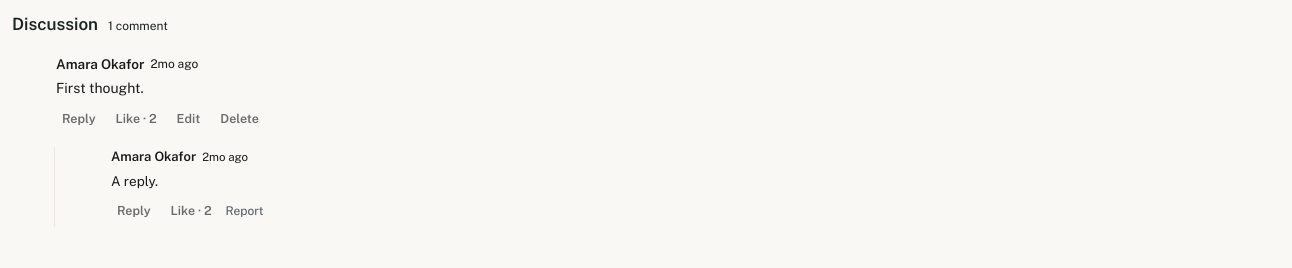
CommentThread › says the replies survive when the comment being deleted has some
Click the button "Delete" at (240, 119), box [214,103,265,135]
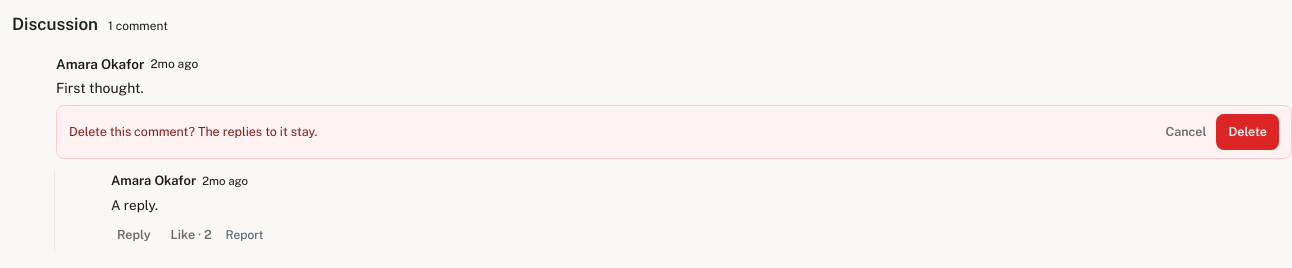
Now the text "Delete this comment? The replies to it stay." is shown, box [69,122,317,142]
